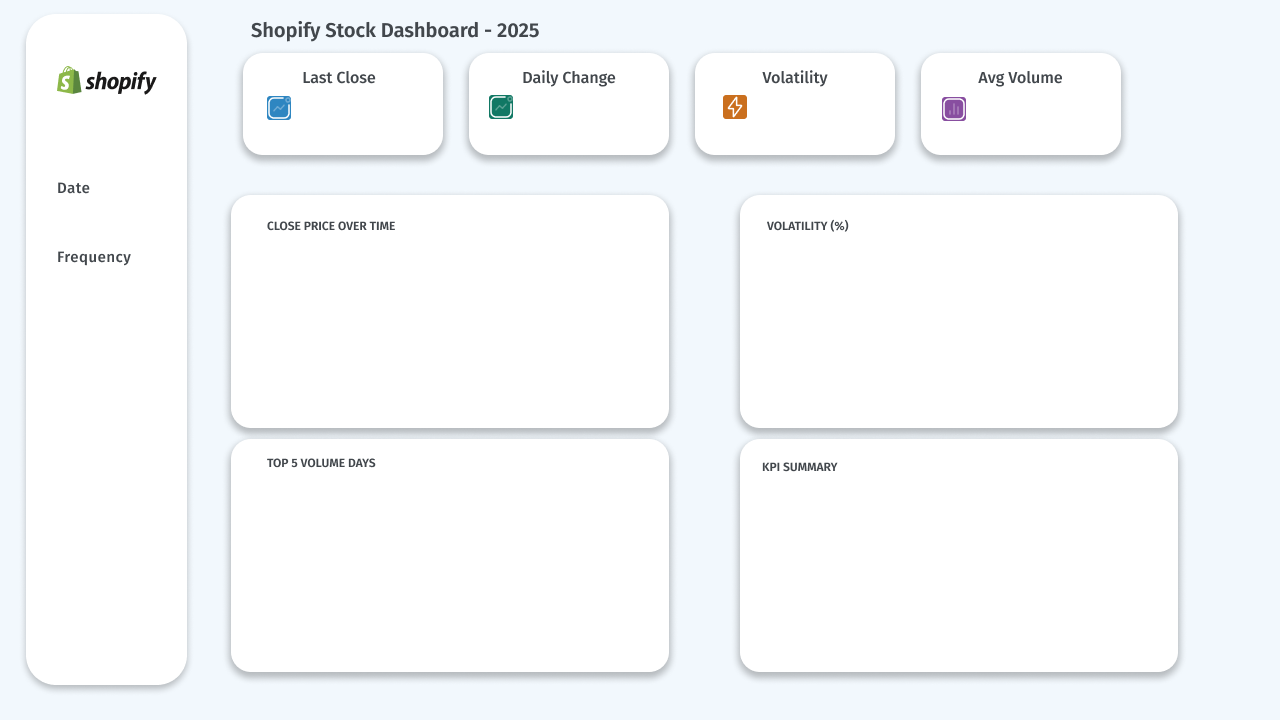

The page's visual inventory and layout, read from the dashboard file:
{"tool":"powerbi","page":{"name":"Page 2","canvas":[1280,720],"ordinal":1},"visuals":[{"type":"slicer","fields":{"Values":["DateTable.Date"]},"box":[31,198.1,153.7,47.3],"z":1000},{"type":"slicer","fields":{"Values":["DateTable.Month"]},"box":[31,274.9,153.7,51.7],"z":2000},{"type":"card","title":"Last Close","fields":{"Values":["Mesures.Last Close"]},"box":[260.1,75.4,161.1,57.6],"z":3000},{"type":"card","title":"Daily Change","fields":{"Values":["Mesures.Daily Change %"]},"box":[504,73.9,161.1,57.6],"z":4000},{"type":"card","title":"Volatility","fields":{"Values":["Mesures.Volatility %"]},"box":[731.6,73.9,161.1,57.6],"z":5000},{"type":"card","title":"Avg, Volume","fields":{"Values":["Mesures.Avg Volume"]},"box":[938.6,73.9,161.1,57.6],"z":6000},{"type":"lineChart","title":"Close Price Over Time","fields":{"Y":["Mesures.Close Rounded"],"Category":["DateTable.Month"]},"box":[229.1,198.1,436,221.7],"z":7000},{"type":"areaChart","title":"Volatility (%)","fields":{"Y":["Mesures.Volatility %"],"Category":["DateTable.Month"]},"box":[744.9,199.5,430.1,220.2],"z":8000},{"type":"clusteredBarChart","title":"Top 5 Volume Days","fields":{"Category":["DateTable.Month"],"Y":["Sum(Stock_Prices.volume)"]},"box":[229.1,446.4,436,223.2],"z":9000},{"type":"pivotTable","title":"KPI Summary","fields":{"Rows":["DateTable.Date"],"Values":["Sum(Stock_Prices.open)","Sum(Stock_Prices.close)","Mesures.Daily Change %","Sum(Stock_Prices.volume)","Mesures.Volatility %"]},"box":[744.9,468.5,430.1,201],"z":10000}]}

Visuals, with their boxes in screenshot pixels (x1, y1, x2, y2), scaled from the page's 1280x720 canvas onto the 1280x720 screenshot:
slicer - DateTable.Date: box=[31, 198, 185, 245]
slicer - DateTable.Month: box=[31, 275, 185, 327]
"Last Close" card: box=[260, 75, 421, 133]
"Daily Change" card: box=[504, 74, 665, 132]
"Volatility" card: box=[732, 74, 893, 132]
"Avg, Volume" card: box=[939, 74, 1100, 132]
"Close Price Over Time" lineChart: box=[229, 198, 665, 420]
"Volatility (%)" areaChart: box=[745, 200, 1175, 420]
"Top 5 Volume Days" clusteredBarChart: box=[229, 446, 665, 670]
"KPI Summary" pivotTable: box=[745, 468, 1175, 670]
